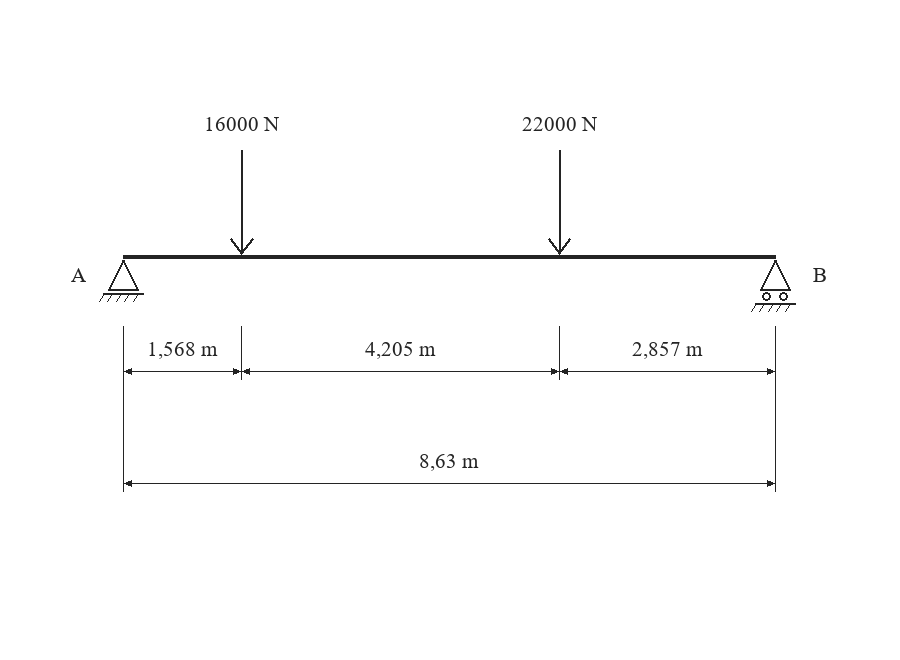pin_support: (99, 260, 144, 302)
point_load: (230, 150, 254, 255), (548, 150, 571, 255)
roller_support: (751, 260, 796, 312)
